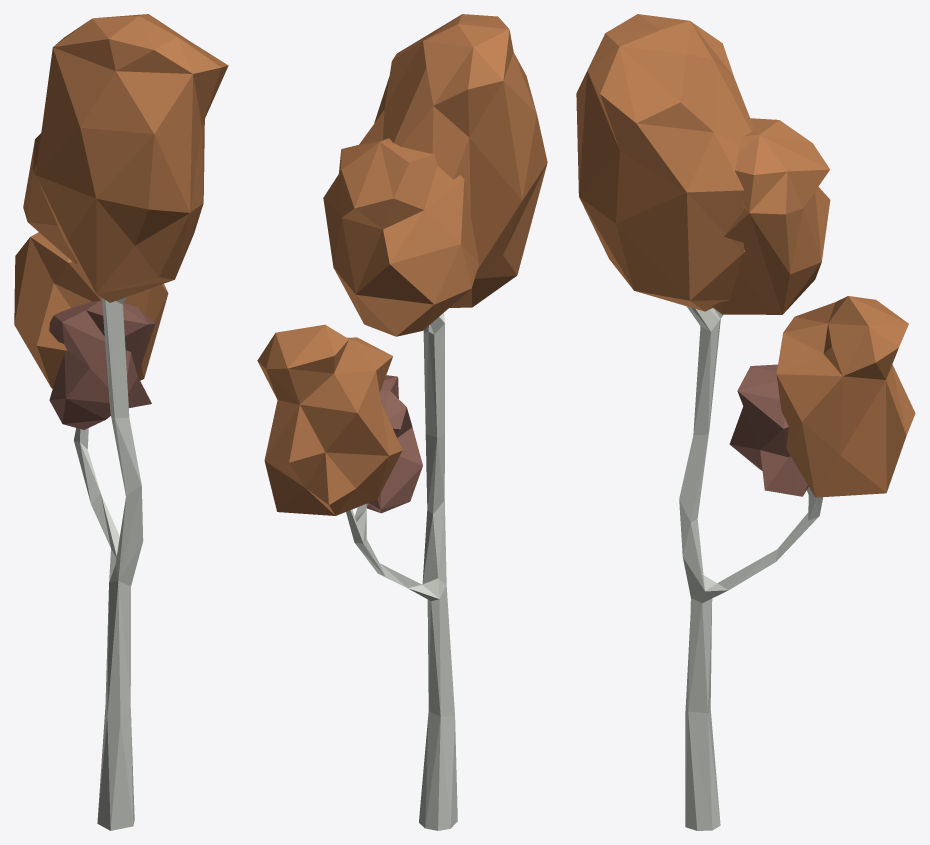
File: BirchTree_Autumn_5.lod2.glb
The picture shows the model from 3 angles, left to right: view 1: azimuth 30°, elevation 25°; view 2: azimuth 150°, elevation 25°; view 3: azimuth 270°, elevation 25°; orthographic projection. The views are drawn at different scales.
Visible parts, largest first — view 1: BirchTree_Autumn_5; view 2: BirchTree_Autumn_5; view 3: BirchTree_Autumn_5.
Part boxes in pixels (box(x1,y1,x2,y2)): BirchTree_Autumn_5: box(14, 14, 228, 830); BirchTree_Autumn_5: box(257, 14, 547, 830); BirchTree_Autumn_5: box(576, 14, 915, 830).
Bounding box in the file's own units: 1.19 × 5 × 1.93.
